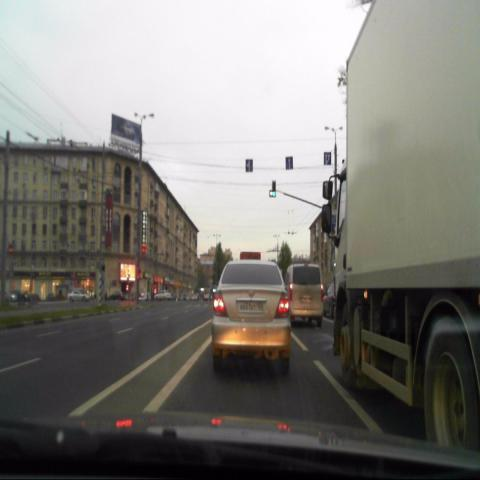5_15_2: (245, 158, 253, 172), (285, 157, 293, 170)
5_15_3: (323, 152, 331, 165)
